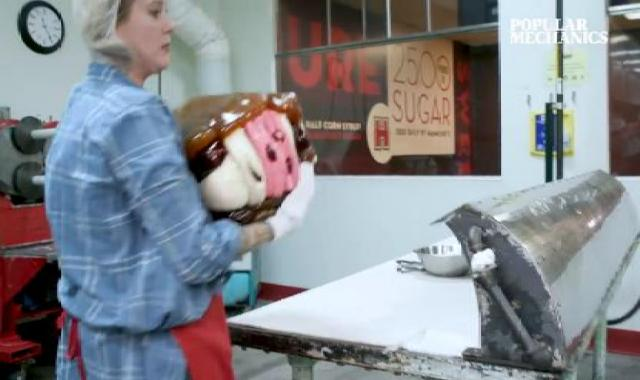hairnet: (76, 0, 147, 68)
